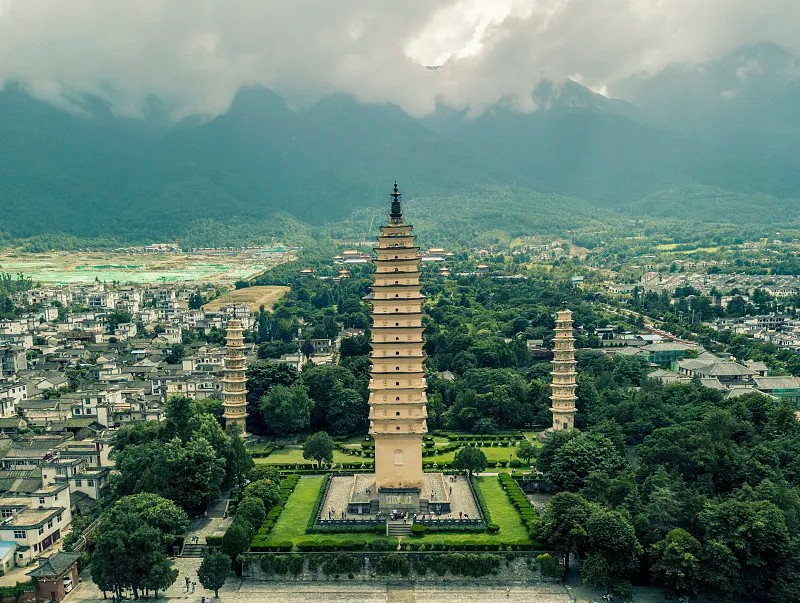ThreePagoda: (367, 182, 429, 491)
